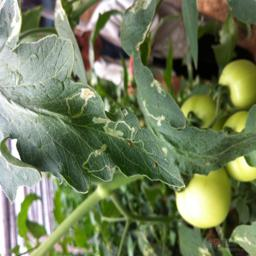liriomyza: (91, 116, 147, 145), (61, 86, 96, 118), (80, 142, 112, 173), (5, 1, 24, 44), (141, 96, 165, 128), (150, 77, 164, 94)
